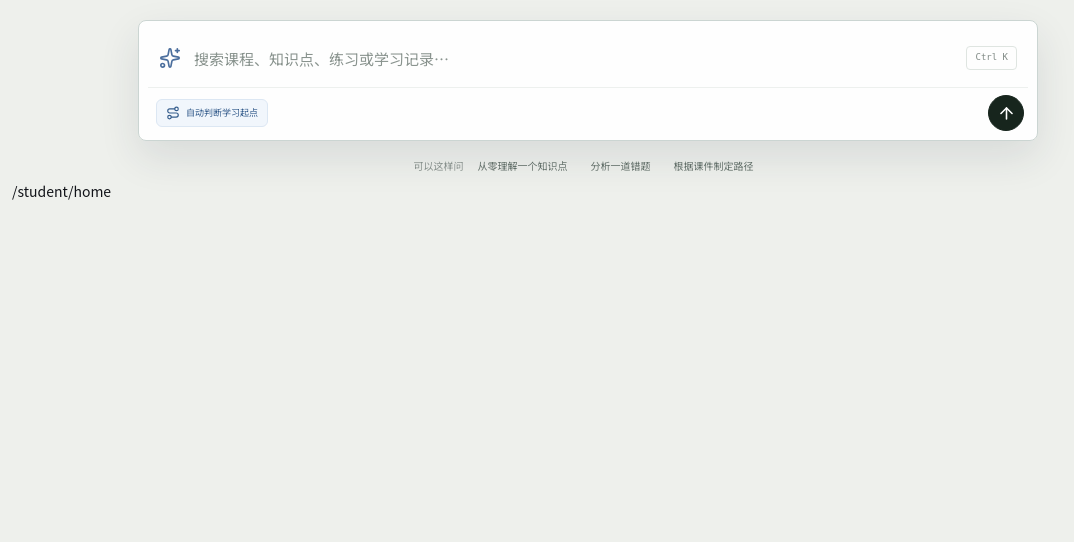
Test: HomeSearch › supports Ctrl+K focus and Escape without clearing the query
Step 1. Press k
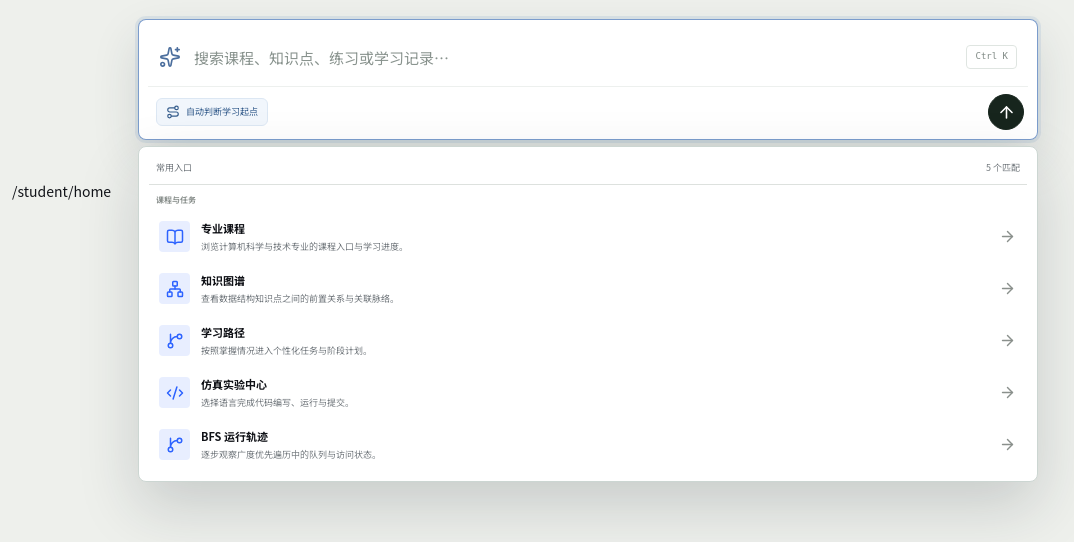
Step 2. Type "能力" into the search field named "检索平台内容" → (574, 57), box [194,28,954,86]
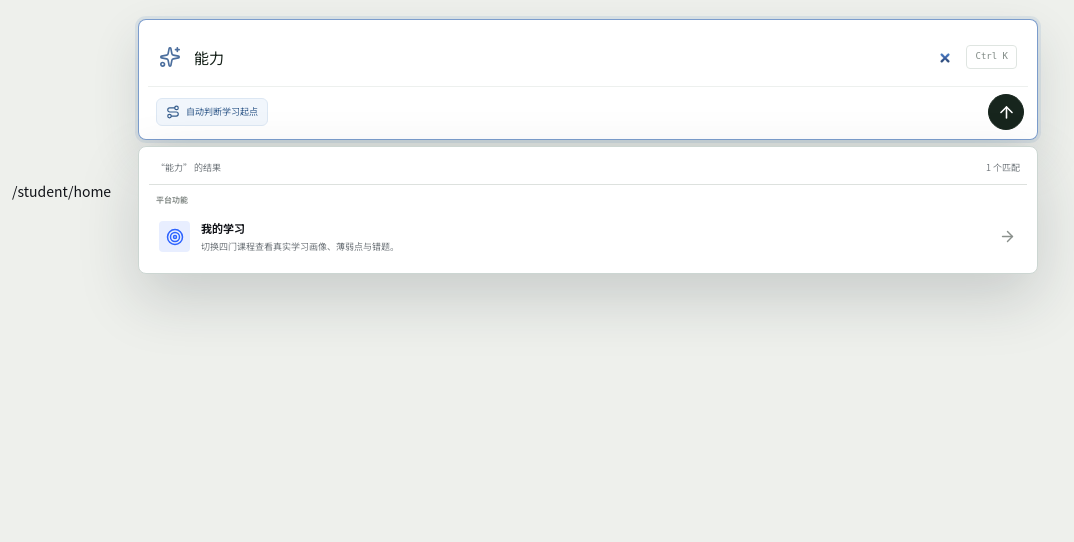
Check: the element named "检索结果" is shown, box [138,146,1038,274]
Step 3. Press Escape in the search field named "检索平台内容", box [194,28,954,86]
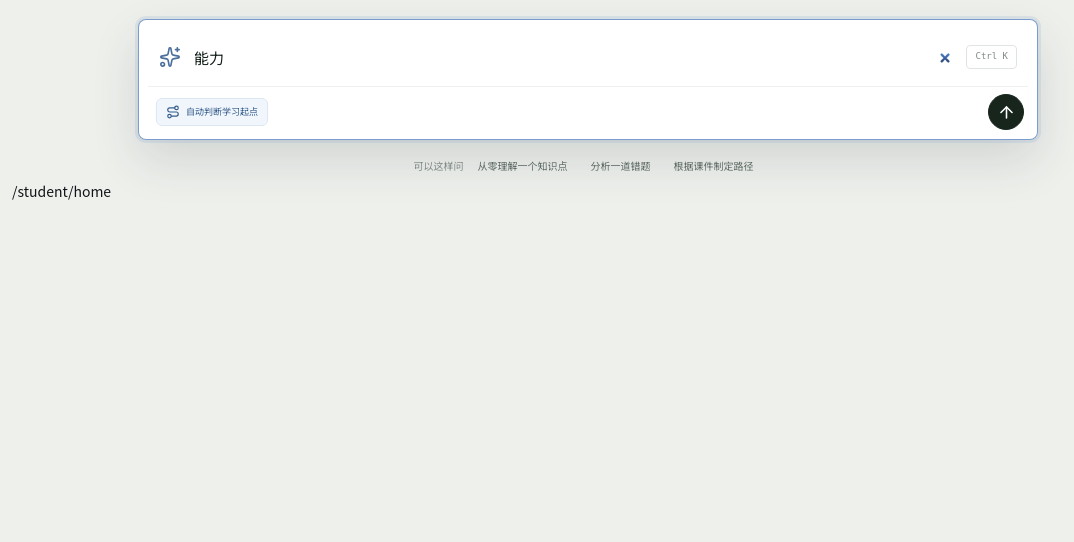
Check: the element "检索结果" is gone
